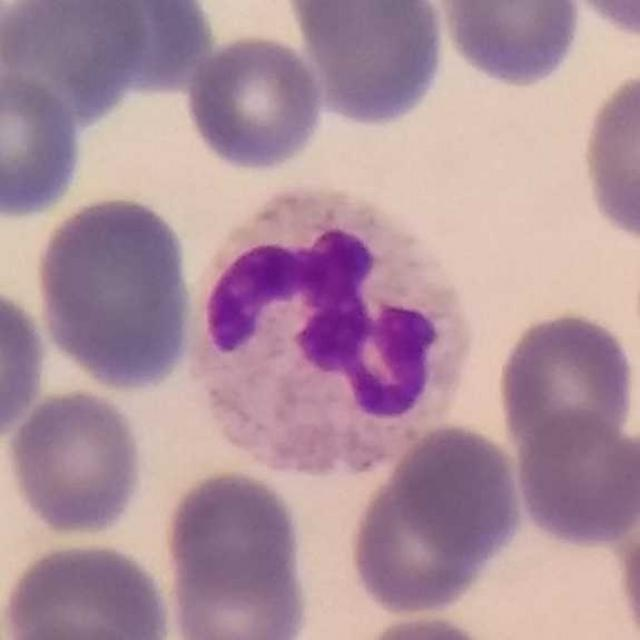Neutrophil: (175, 177, 482, 496)
RBC: (344, 418, 528, 619), (30, 190, 202, 393), (159, 465, 311, 616), (492, 306, 639, 460), (3, 386, 148, 539), (289, 0, 451, 130), (183, 30, 327, 176), (510, 408, 640, 550), (0, 535, 176, 639), (161, 537, 314, 639), (0, 0, 149, 102), (68, 0, 218, 98), (431, 0, 586, 89), (0, 68, 87, 223), (576, 65, 639, 246), (282, 1, 438, 56), (0, 282, 51, 445), (0, 0, 89, 70), (351, 611, 505, 640), (614, 494, 640, 640), (0, 616, 151, 640), (558, 0, 640, 43)
